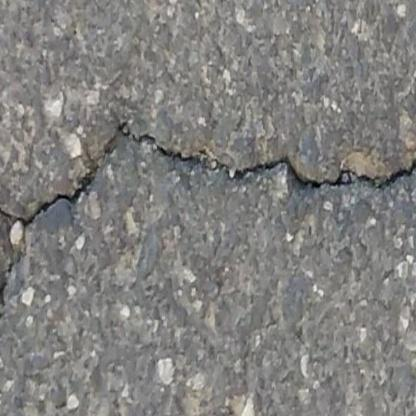Cracks: (0, 116, 416, 364)
